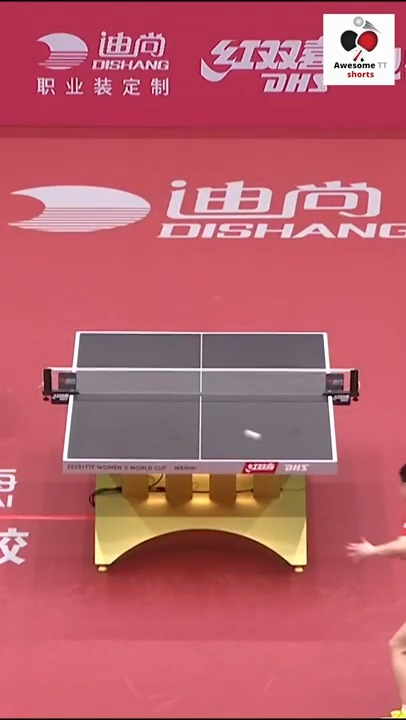Ball: (246, 429, 260, 441)
